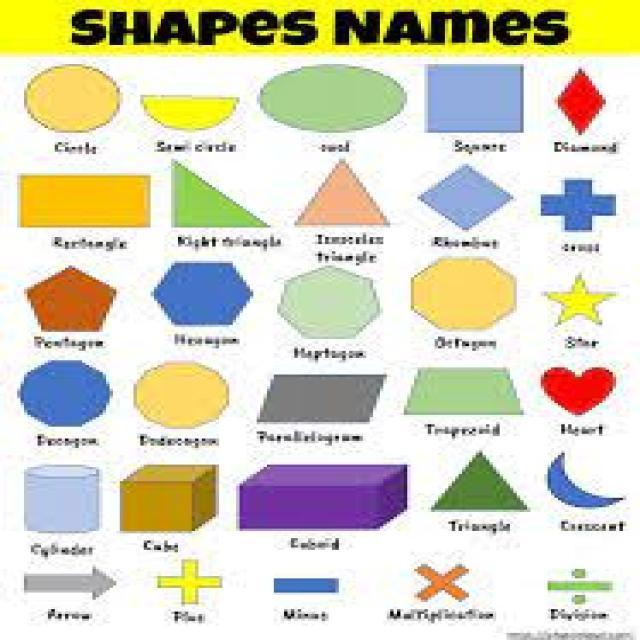circle: (243, 53, 419, 148), (10, 46, 130, 148), (128, 346, 242, 450)
cross: (533, 160, 631, 258), (403, 548, 493, 640), (150, 548, 238, 621)
square: (408, 43, 537, 156), (15, 158, 162, 248)
triangle: (158, 150, 300, 260), (273, 143, 395, 264)
